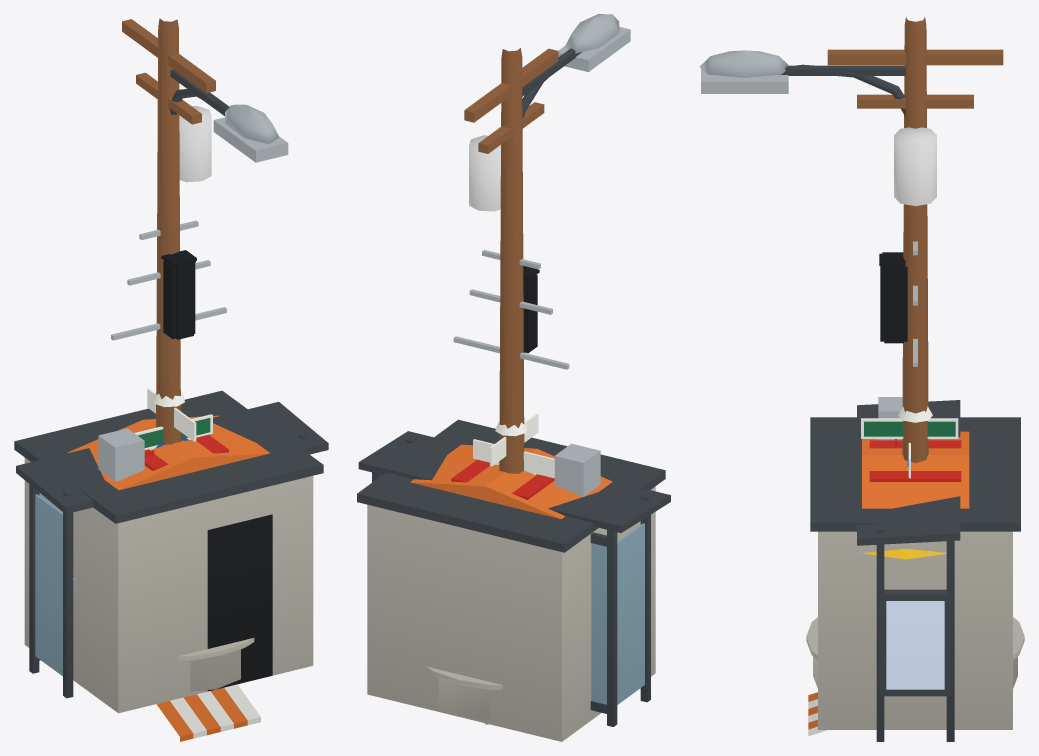
Rendered from streetkit.8483d2a1.glb.
3 renders of one model, left to right at view 1: azimuth 30°, elevation 25°; view 2: azimuth 150°, elevation 25°; view 3: azimuth 270°, elevation 25°, orthographic. The views are drawn at different scales.
Parts seen in each view (by area): view 1: bulkhead, busstop, utility_pole, kiosk, awning, signal, fountain, streetlight_far, streetlight, mast, sign_street, phone_booth; view 2: bulkhead, busstop, utility_pole, kiosk, fountain, streetlight, mast, sign_street, streetlight_far, signal, phone_booth; view 3: bulkhead, utility_pole, busstop, kiosk, streetlight_far, streetlight, signal, sign_street, phone_booth, fountain, mast.
Part boxes in pixels (box(x1,y1,x2,y2)): bulkhead: box(14, 390, 323, 713); busstop: box(16, 401, 328, 698); utility_pole: box(122, 18, 215, 444); kiosk: box(67, 415, 269, 490); awning: box(156, 684, 260, 741); signal: box(161, 250, 196, 339); fountain: box(177, 638, 254, 691); streetlight_far: box(170, 69, 288, 162); streetlight: box(169, 89, 279, 143); mast: box(111, 220, 226, 407); sign_street: box(134, 388, 212, 449); phone_booth: box(144, 434, 228, 470); bulkhead: box(357, 419, 665, 741); busstop: box(358, 431, 670, 726); utility_pole: box(464, 48, 558, 473); kiosk: box(410, 444, 612, 519); fountain: box(426, 666, 502, 720); streetlight: box(522, 14, 619, 118); mast: box(453, 249, 569, 436); sign_street: box(473, 413, 554, 478); streetlight_far: box(522, 26, 630, 96); signal: box(523, 266, 539, 353); phone_booth: box(451, 459, 554, 499); bulkhead: box(810, 397, 1020, 729); utility_pole: box(827, 17, 1003, 462); busstop: box(857, 400, 960, 741); kiosk: box(862, 431, 969, 508); streetlight_far: box(701, 65, 905, 93); streetlight: box(699, 50, 905, 116); signal: box(879, 252, 907, 343); sign_street: box(861, 418, 958, 478); phone_booth: box(869, 440, 961, 481); fountain: box(806, 617, 1024, 688); mast: box(898, 241, 932, 422).
Bounding box in the file's own units: 3.24 × 7.96 × 3.34.
Materials: 1 (1 with a texture image).
